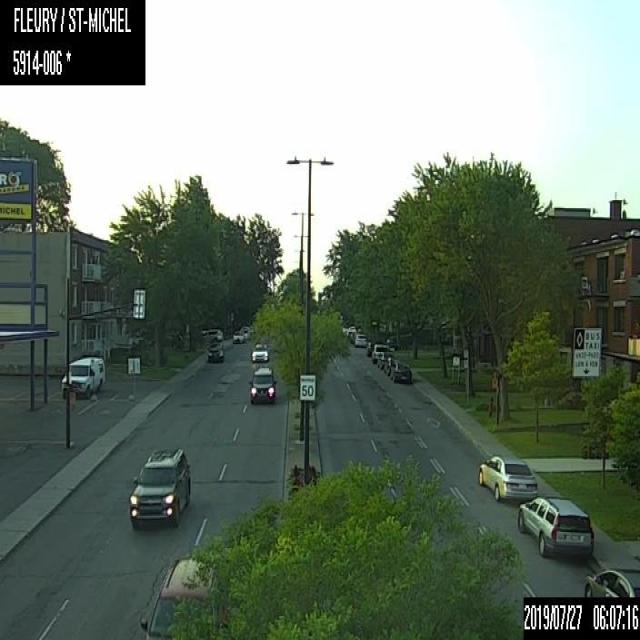vehicle: (140, 557, 212, 639), (518, 492, 596, 558), (128, 445, 190, 528), (478, 452, 536, 504), (59, 354, 105, 399), (580, 561, 639, 596), (248, 367, 276, 404), (203, 340, 226, 361), (390, 360, 411, 382), (249, 340, 269, 361), (371, 343, 388, 363), (201, 326, 223, 339), (353, 332, 366, 346), (231, 330, 242, 341), (240, 326, 249, 338)
